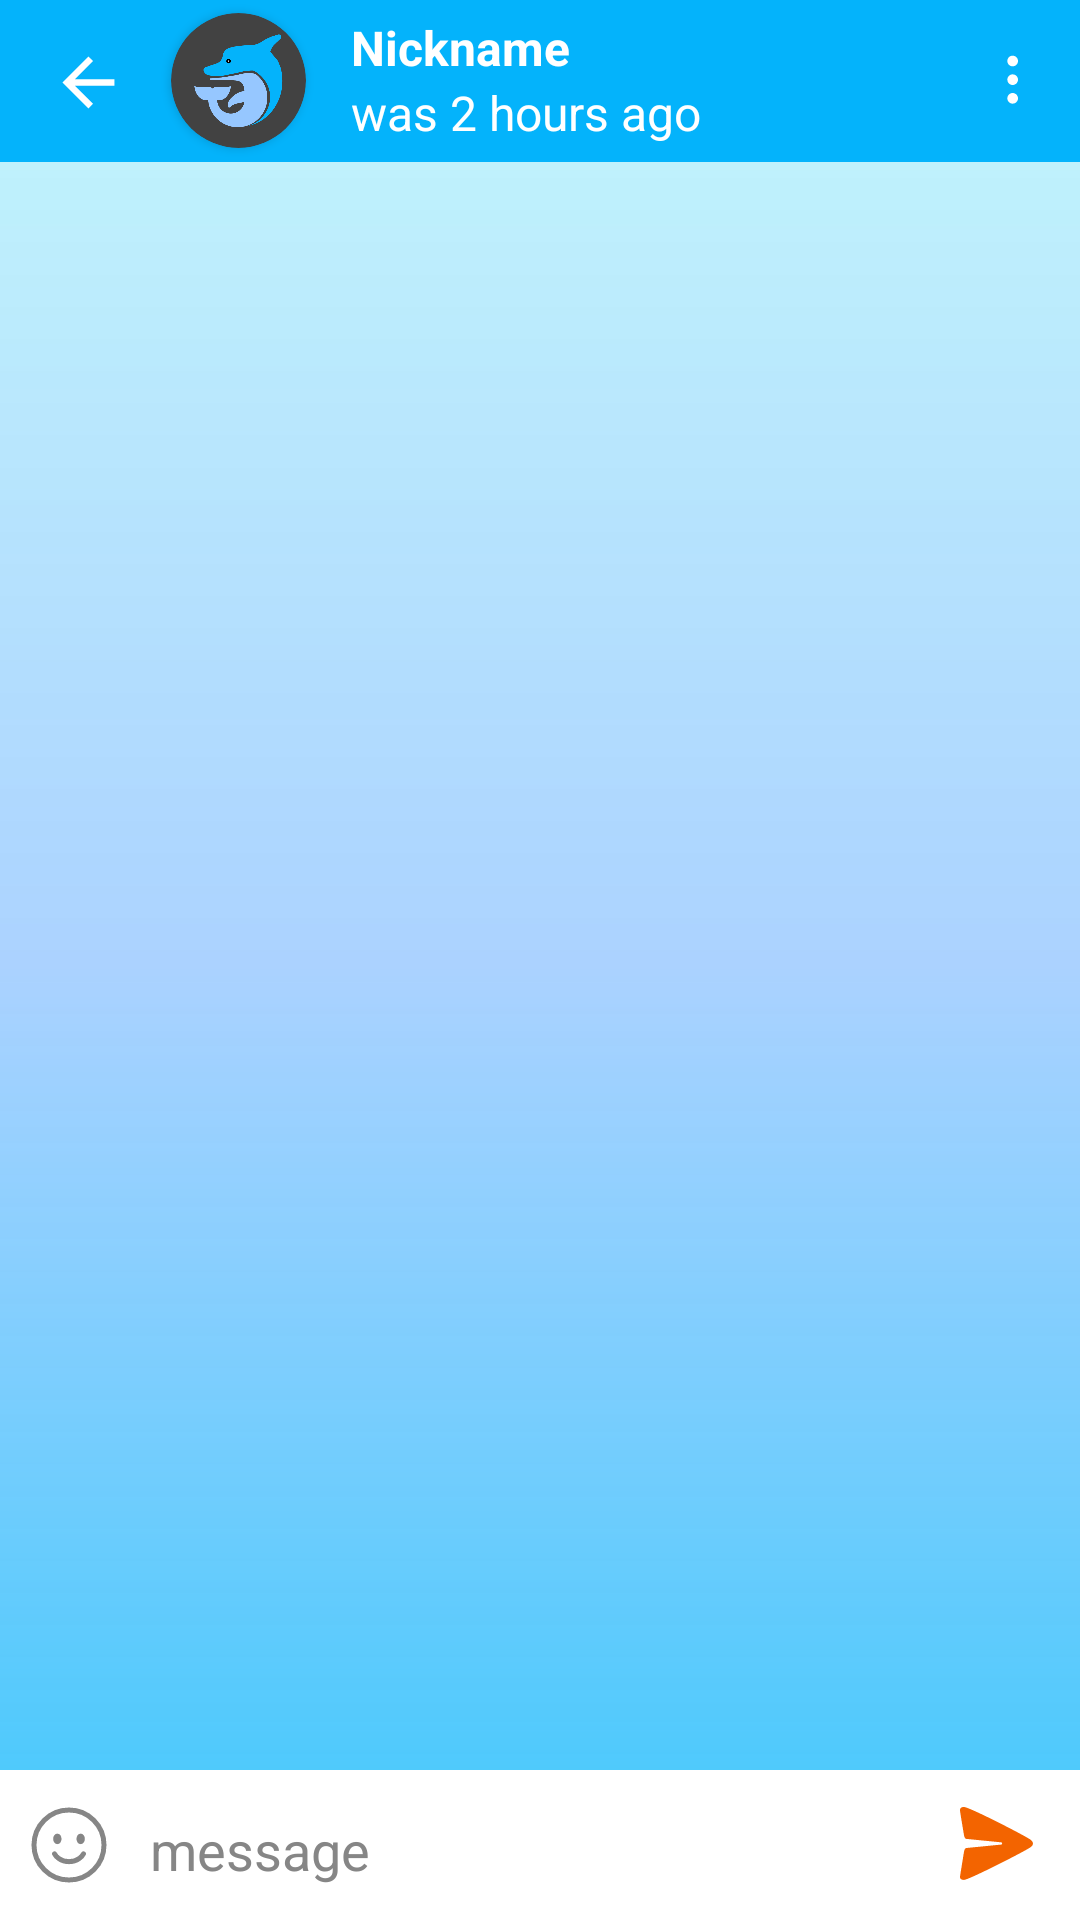

Screen size 1080*1920. Icon name, then its box in pixels as rect(x1, y1, x2, y2):
back: rect(62, 56, 115, 109)
dots: rect(1007, 55, 1018, 104)
emoji: rect(31, 1807, 107, 1883)
send: rect(960, 1807, 1033, 1880)
